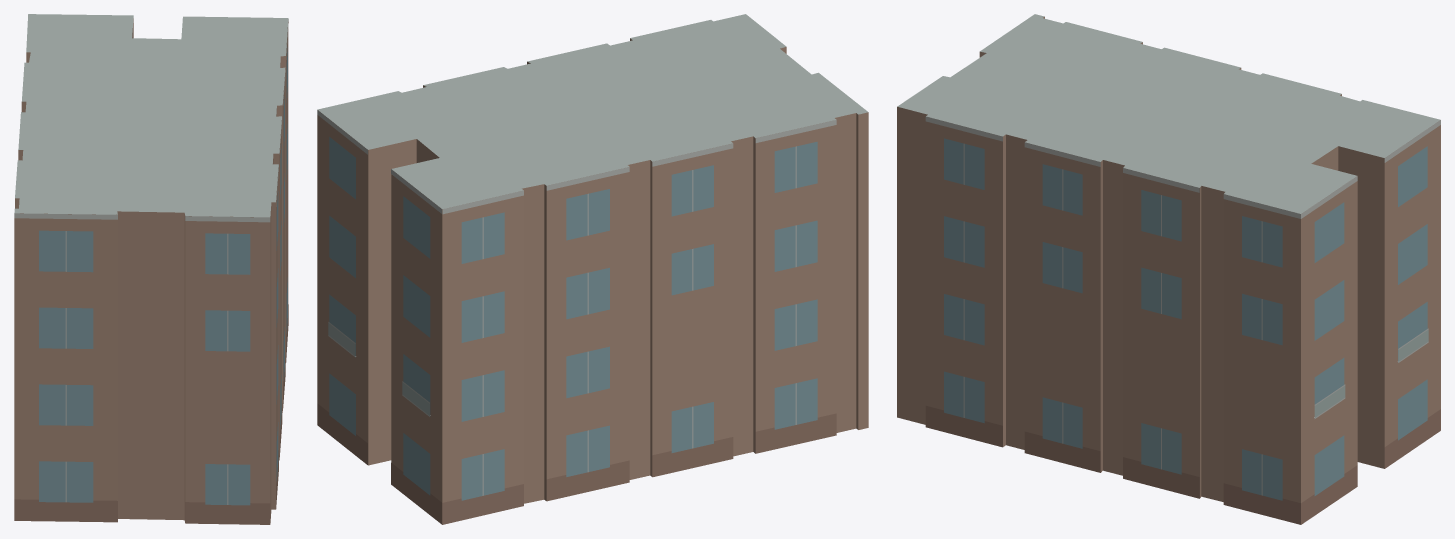
The model's file is survey-upis-32687473.glb.
3 renders of one model, left to right at view 1: azimuth 30°, elevation 25°; view 2: azimuth 150°, elevation 25°; view 3: azimuth 270°, elevation 25°, orthographic. The views are drawn at different scales.
Parts seen in each view (by area): view 1: survey-upis-32687473.tmp; view 2: survey-upis-32687473.tmp; view 3: survey-upis-32687473.tmp.
Boxes of the visible parts, left/top/right/bottom form: survey-upis-32687473.tmp: left=14, top=14, right=288, bottom=524; survey-upis-32687473.tmp: left=317, top=14, right=868, bottom=524; survey-upis-32687473.tmp: left=897, top=14, right=1440, bottom=524.
Size of the model in its own units: 20.92 by 15.15 by 24.03.
